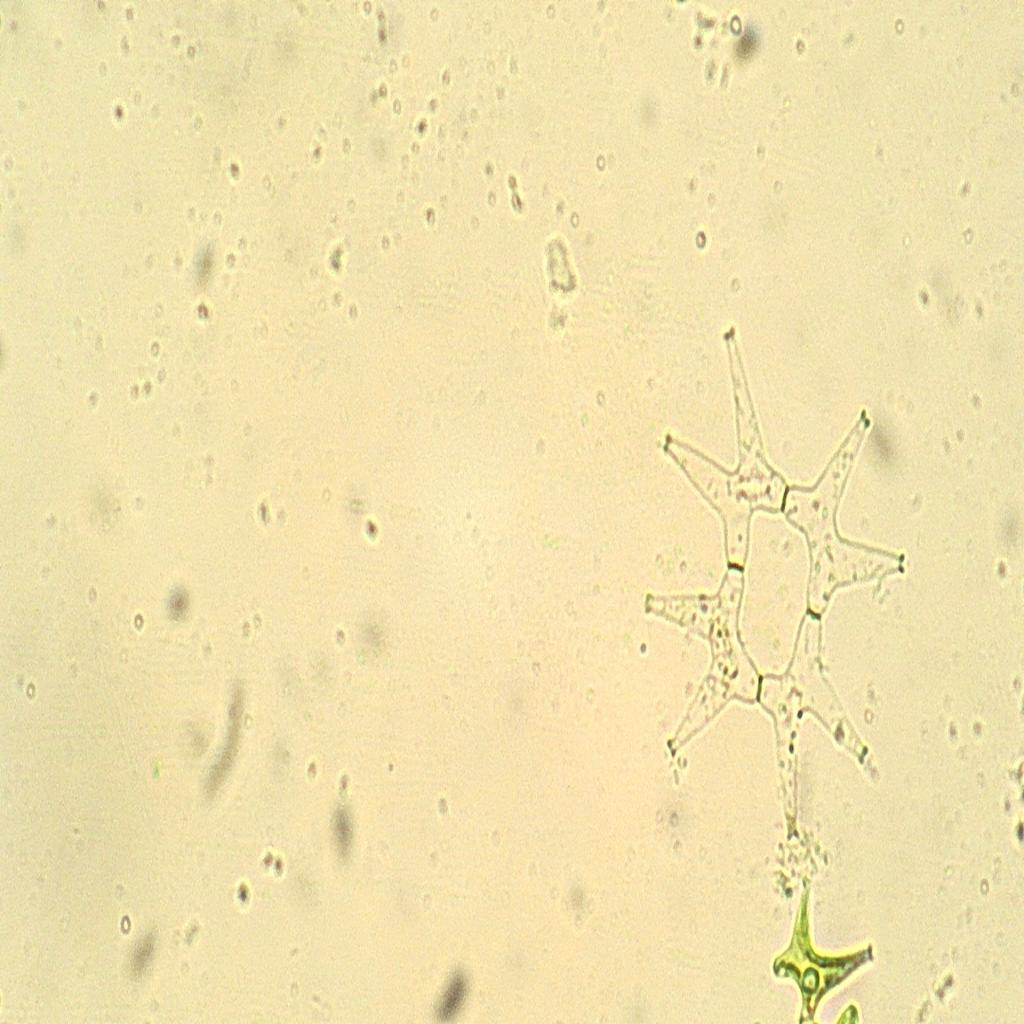Pediastrum_1F0: (613, 316, 939, 853)
